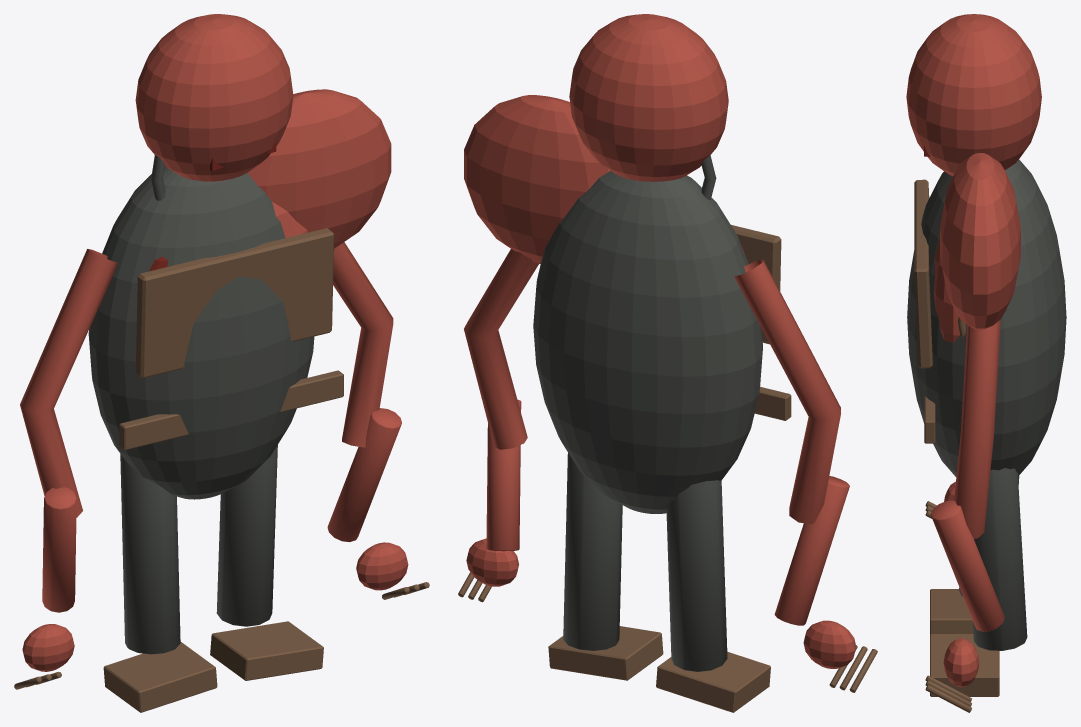
File: dz_enemy_brute_female_B.glb
3 renders of one model, left to right at view 1: azimuth 30°, elevation 25°; view 2: azimuth 150°, elevation 25°; view 3: azimuth 270°, elevation 25°, orthographic. The views are drawn at different scales.
Visible parts, largest first — view 1: dz_torso_core, dz_head_forward, dz_heavy_shoulder_mutation, dz_rusted_plate_chest, dz_limb_leg_L, dz_limb_arm_L, dz_limb_leg_R, dz_limb_arm_R, dz_foot_drag_L, dz_foot_drag_R, dz_limb_forearm_R, dz_limb_forearm_L (+3 smaller); view 2: dz_torso_core, dz_head_forward, dz_heavy_shoulder_mutation, dz_limb_leg_L, dz_limb_leg_R, dz_limb_arm_L, dz_limb_arm_R, dz_limb_forearm_L, dz_foot_drag_L, dz_foot_drag_R, dz_limb_forearm_R, dz_hand_claw_L (+3 smaller); view 3: dz_torso_core, dz_head_forward, dz_heavy_shoulder_mutation, dz_limb_arm_R, dz_limb_leg_R, dz_limb_forearm_R, dz_rusted_plate_chest, dz_foot_drag_R, dz_foot_drag_L, dz_hand_claw_R, dz_chest_infected_growth, dz_chain_belt_brute (+1 smaller).
Part boxes in pixels (box(x1,y1,x2,y2)): dz_torso_core: box(88, 166, 314, 499); dz_head_forward: box(135, 14, 293, 181); dz_heavy_shoulder_mutation: box(247, 89, 391, 248); dz_rusted_plate_chest: box(135, 228, 334, 378); dz_limb_leg_L: box(120, 454, 180, 654); dz_limb_arm_L: box(20, 249, 118, 517); dz_limb_leg_R: box(216, 445, 277, 626); dz_limb_arm_R: box(333, 242, 393, 447); dz_foot_drag_L: box(103, 642, 217, 712); dz_foot_drag_R: box(210, 621, 323, 680); dz_limb_forearm_R: box(327, 408, 401, 542); dz_limb_forearm_L: box(42, 487, 76, 612); dz_torso_core: box(533, 171, 762, 513); dz_head_forward: box(569, 14, 728, 181); dz_heavy_shoulder_mutation: box(464, 95, 610, 263); dz_limb_leg_L: box(666, 480, 727, 671); dz_limb_leg_R: box(563, 453, 622, 650); dz_limb_arm_L: box(734, 259, 840, 524); dz_limb_arm_R: box(464, 249, 538, 449); dz_limb_forearm_L: box(774, 476, 849, 625); dz_foot_drag_L: box(656, 651, 770, 712); dz_foot_drag_R: box(548, 626, 663, 680); dz_limb_forearm_R: box(486, 399, 521, 551); dz_hand_claw_L: box(803, 620, 856, 668); dz_torso_core: box(907, 159, 1066, 476); dz_head_forward: box(906, 14, 1041, 176); dz_heavy_shoulder_mutation: box(940, 153, 1020, 329); dz_limb_arm_R: box(954, 319, 1000, 538); dz_limb_leg_R: box(972, 468, 1027, 650); dz_limb_forearm_R: box(930, 500, 1004, 631); dz_rusted_plate_chest: box(914, 179, 932, 368); dz_foot_drag_R: box(930, 634, 999, 696); dz_foot_drag_L: box(930, 589, 973, 634); dz_hand_claw_R: box(943, 638, 979, 687); dz_chest_infected_growth: box(933, 236, 960, 342); dz_chain_belt_brute: box(924, 396, 935, 443).
Size of what is drawn, in the model's own units: 1.39 by 2.22 by 0.5059.
